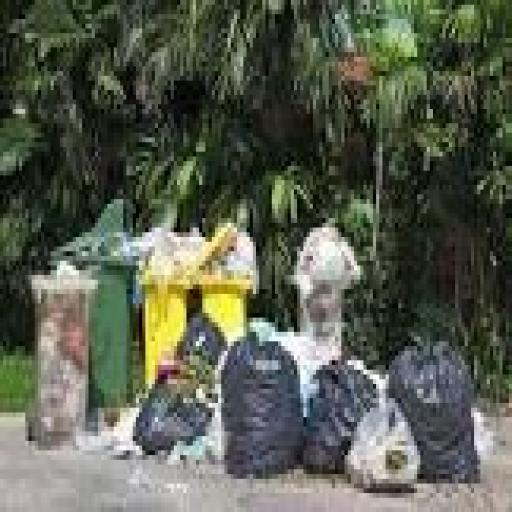poubelle_pleine: (132, 209, 266, 461), (282, 205, 378, 462), (9, 243, 105, 453)
